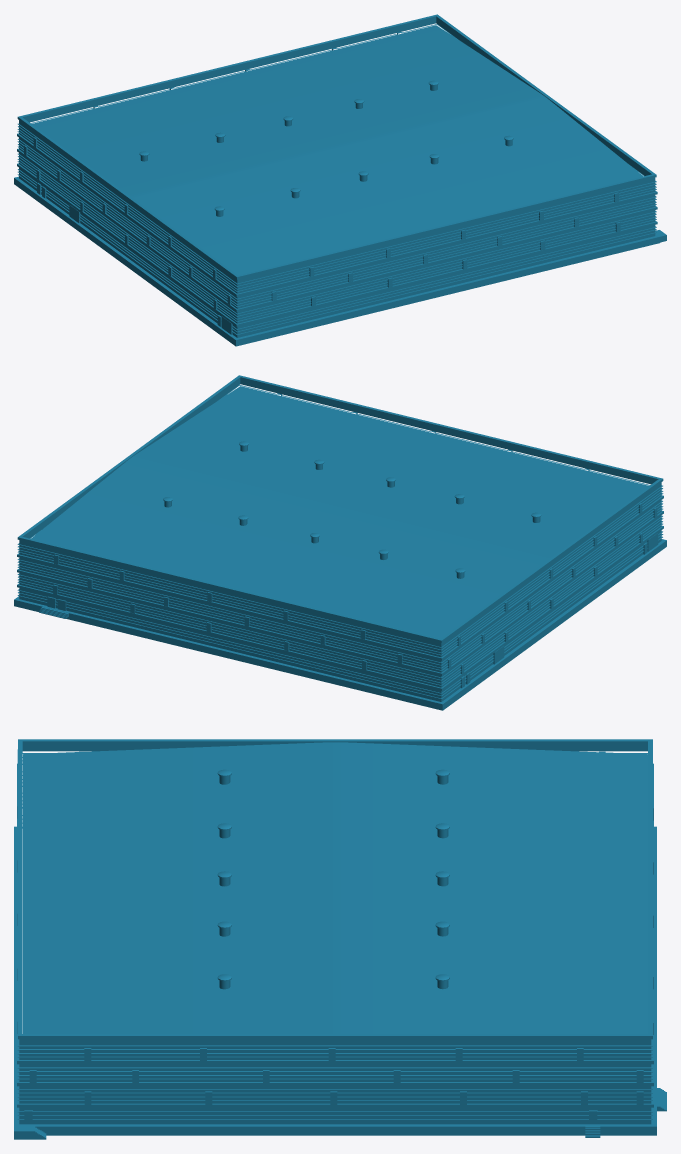
File: yq_junyong.glb
3 views of the same model, one above another, from view 1: azimuth 30°, elevation 25°; view 2: azimuth 150°, elevation 25°; view 3: azimuth 270°, elevation 25° (orthographic). The views are drawn at different scales.
Parts seen in each view (by area): view 1: yq_junyong_outline01, yq_junyong_outline00, yq_junyong04, yq_junyong13, yq_junyong12; view 2: yq_junyong_outline01, yq_junyong_outline00, yq_junyong04, yq_junyong13, yq_junyong12; view 3: yq_junyong_outline01, yq_junyong_outline00, yq_junyong04, yq_junyong13, yq_junyong12.
Boxes of the visible parts, x1,y1,x2,y2 form: yq_junyong_outline01: (32, 25, 643, 275); yq_junyong_outline00: (14, 14, 660, 346); yq_junyong04: (17, 24, 656, 335); yq_junyong13: (17, 32, 657, 326); yq_junyong12: (139, 80, 513, 216); yq_junyong_outline01: (31, 386, 648, 638); yq_junyong_outline00: (14, 375, 666, 710); yq_junyong04: (17, 385, 663, 699); yq_junyong13: (17, 393, 663, 690); yq_junyong12: (163, 441, 541, 578); yq_junyong_outline01: (23, 742, 647, 1033); yq_junyong_outline00: (14, 739, 656, 1135); yq_junyong04: (17, 749, 652, 1119); yq_junyong13: (17, 751, 653, 1107); yq_junyong12: (217, 769, 449, 989).
Size of the model in its own units: 102 by 16.2 by 92.53.
